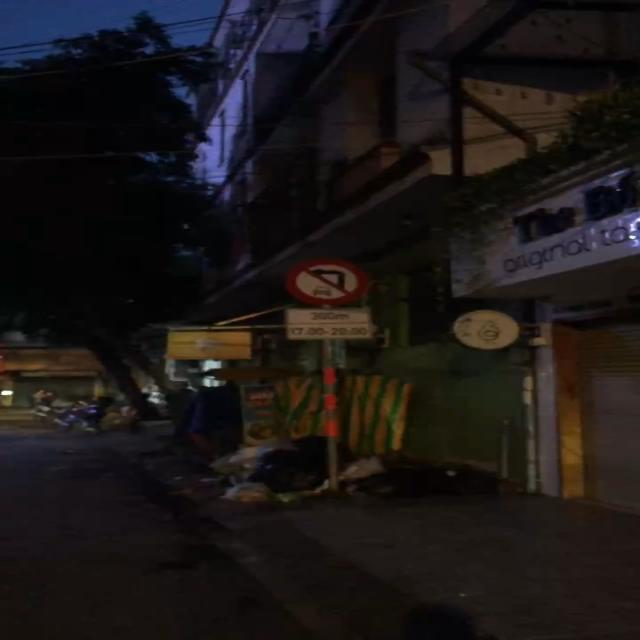Bien bao cam xe o to re trai: (282, 260, 368, 306)
